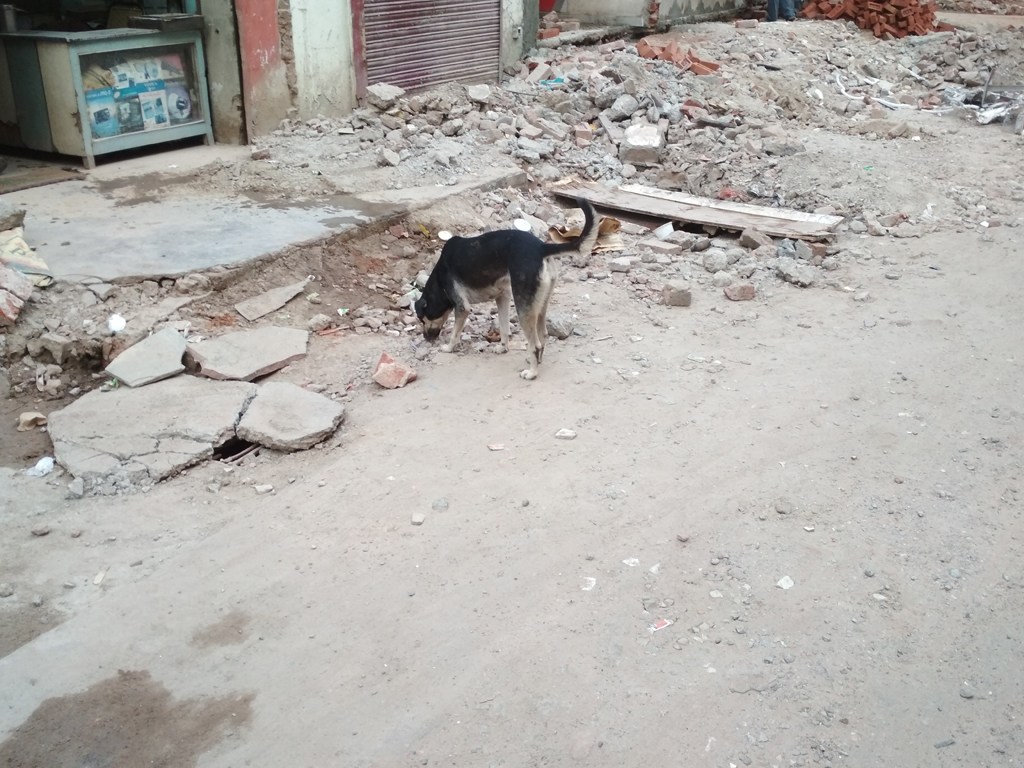dog: (414, 198, 599, 382)
